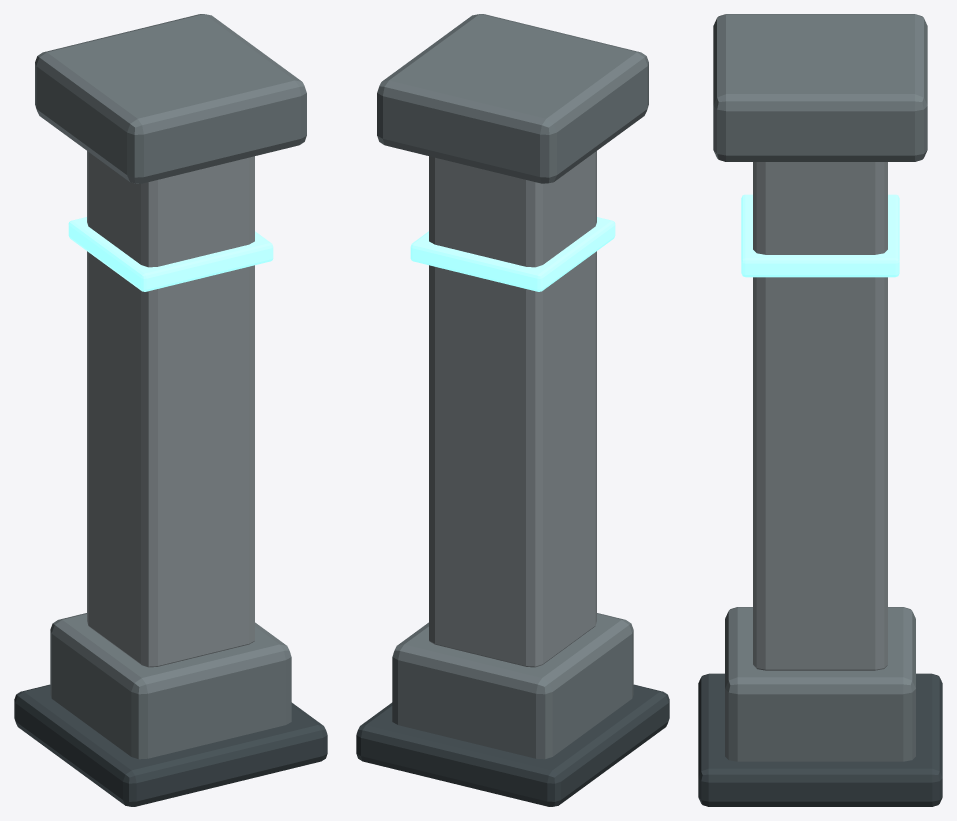
Rendered from SupportColumn_A.fbx.
3 views of the same model, side by side, from view 1: azimuth 30°, elevation 25°; view 2: azimuth 150°, elevation 25°; view 3: azimuth 270°, elevation 25° (orthographic). The views are drawn at different scales.
Parts seen in each view (by area): view 1: Column Shaft, Column Crown, Column Base, Column Foot, Column Light Band; view 2: Column Shaft, Column Crown, Column Base, Column Foot, Column Light Band; view 3: Column Shaft, Column Crown, Column Base, Column Foot, Column Light Band.
Part boxes in pixels (box(x1,y1,x2,y2)): Column Shaft: box(87, 151, 254, 667); Column Crown: box(35, 14, 306, 183); Column Base: box(50, 613, 291, 759); Column Foot: box(14, 684, 327, 806); Column Light Band: box(68, 217, 273, 291); Column Shaft: box(429, 151, 596, 667); Column Crown: box(377, 14, 648, 183); Column Base: box(392, 613, 633, 759); Column Foot: box(356, 684, 669, 806); Column Light Band: box(410, 217, 615, 291); Column Shaft: box(753, 162, 887, 670); Column Crown: box(713, 14, 927, 161); Column Base: box(725, 607, 915, 761); Column Foot: box(698, 673, 942, 806); Column Light Band: box(741, 194, 899, 277).
Size of the model in its own units: 1.05 by 3.34 by 1.05.
